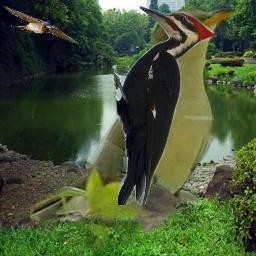Cuckoo: (30, 2, 243, 253)
Swallow: (1, 4, 79, 44)
Woodpecker: (114, 4, 220, 205)
